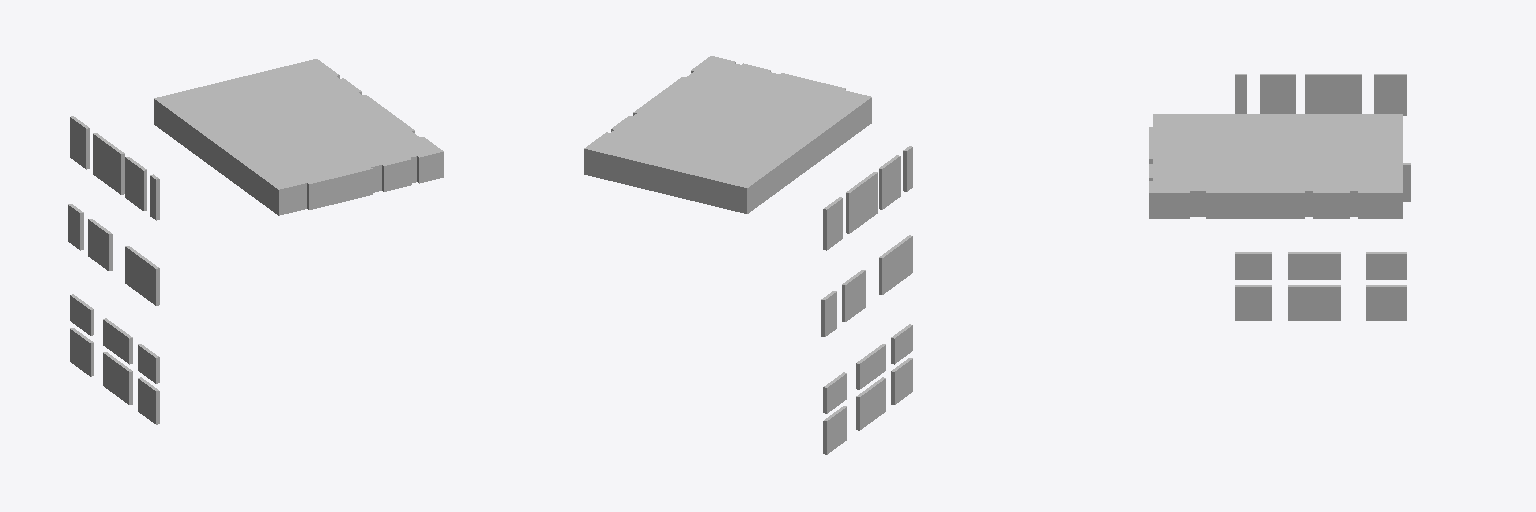
Rendered from Street4-2.obj.
The picture shows the model from 3 angles: view 1: azimuth 30°, elevation 25°; view 2: azimuth 150°, elevation 25°; view 3: azimuth 270°, elevation 25°; orthographic projection.
Visible parts, largest first — view 1: object 1; view 2: object 1; view 3: object 1.
Part boxes in pixels (x1,y1,x2,y2): object 1: (68, 59, 443, 424); object 1: (584, 56, 912, 454); object 1: (1149, 74, 1410, 320).
Size of the model in its own units: 6.9 by 6.6 by 6.4.